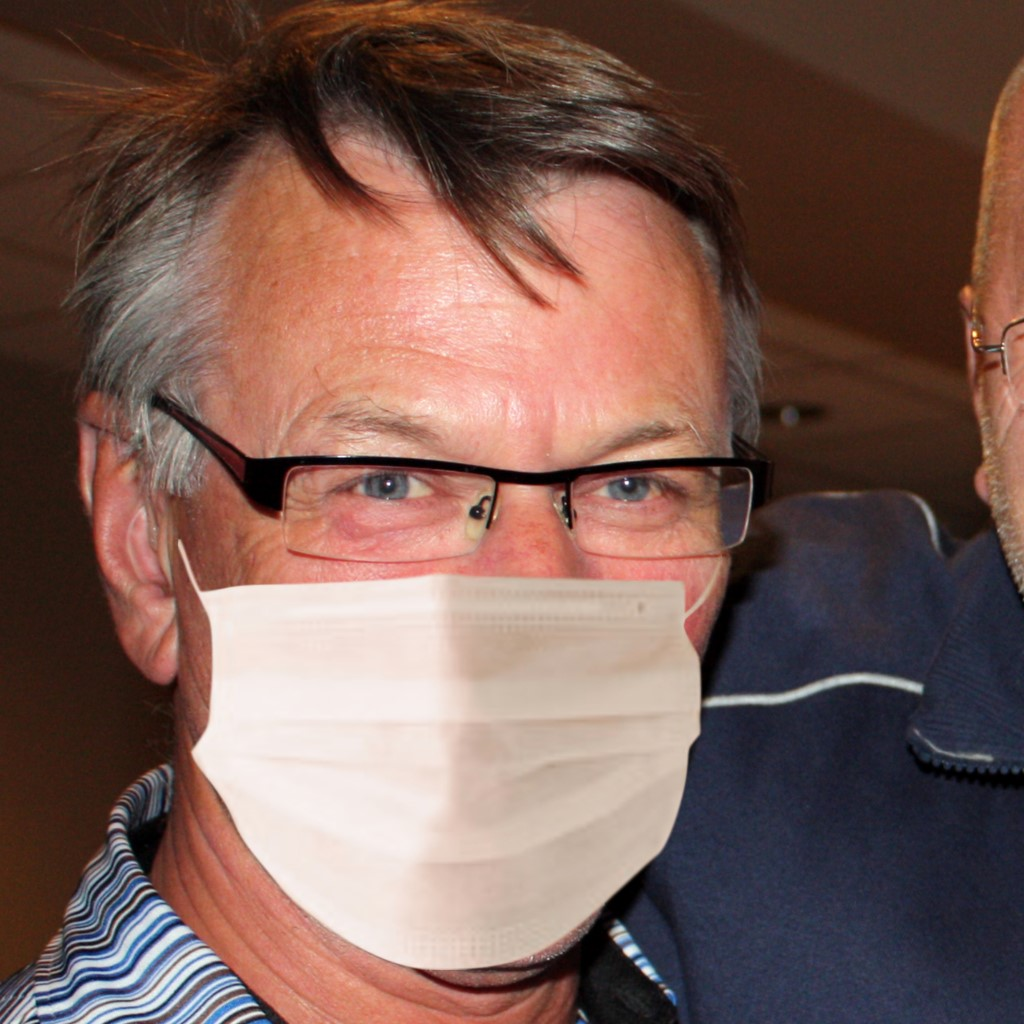con_mascara: (116, 94, 732, 985)
